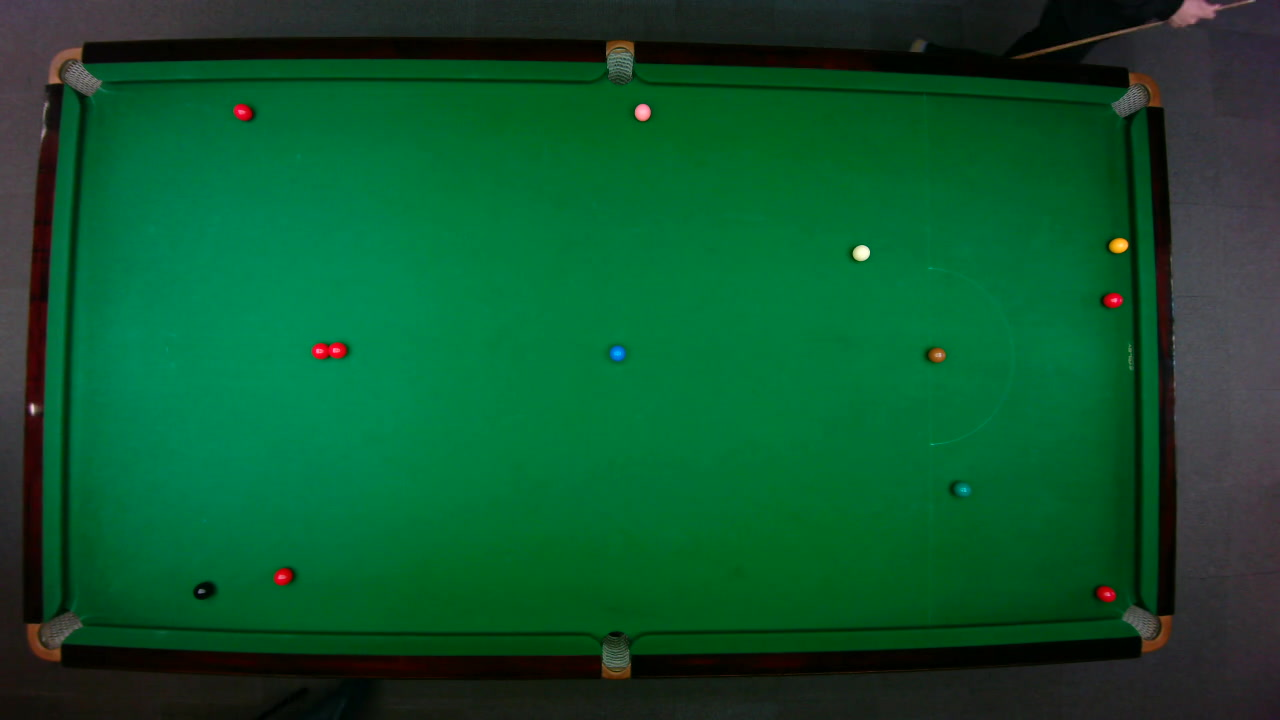bag: (24, 609, 83, 662), (45, 46, 102, 96), (1119, 603, 1172, 652), (1109, 71, 1161, 118), (600, 629, 629, 680), (605, 38, 633, 85)
black: (192, 581, 213, 600)
blue: (607, 344, 626, 362)
brown: (926, 346, 946, 362)
green: (951, 480, 972, 497)
pink: (632, 102, 651, 121)
red: (271, 566, 294, 585), (325, 340, 347, 359), (232, 102, 253, 121), (1094, 584, 1116, 602), (310, 341, 331, 359), (1101, 291, 1123, 308)
white: (850, 243, 871, 261)
yellow: (1107, 236, 1129, 253)
zone: (927, 266, 1014, 445)
